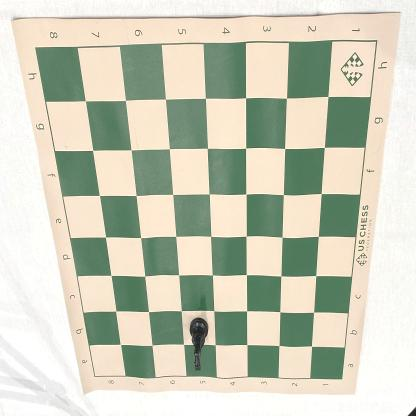black-knight: (188, 318, 210, 372)
